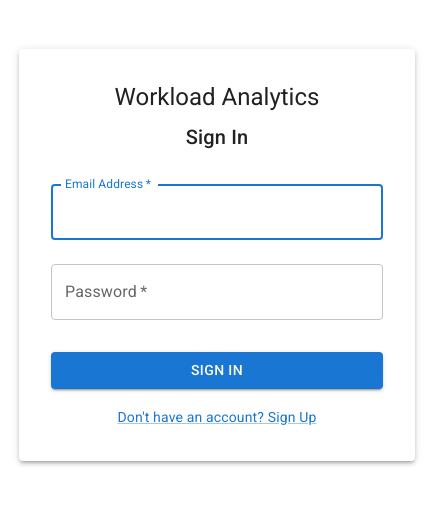
Login Component › handles login error
This screenshot has width=435, height=515.
Type "test@example.com" into the field labelled "Email Address *".
click(217, 212); type("test@example.com")  # box [51,184,383,240]
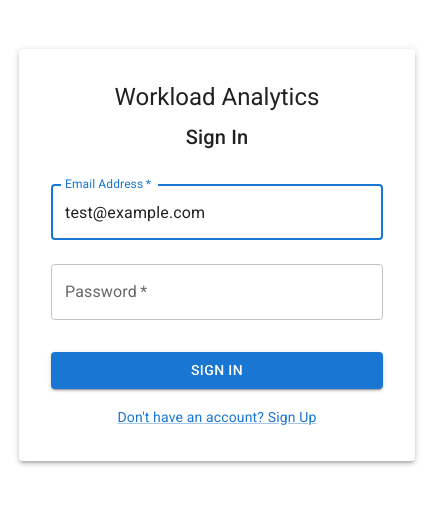
Type "wrongpassword" into the password field labelled "Password *".
click(217, 292); type("wrongpassword")  # box [51,264,383,320]
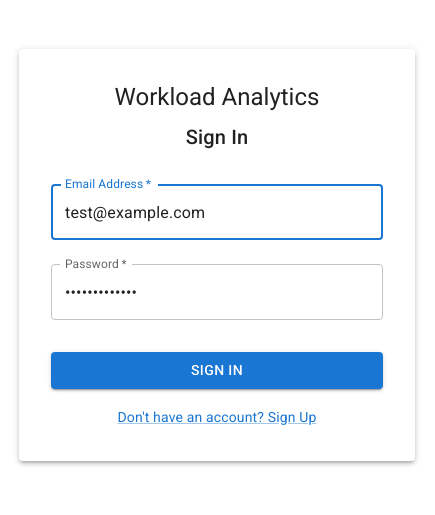
Click the button "Sign In".
click(217, 371)  # box [51,352,383,389]
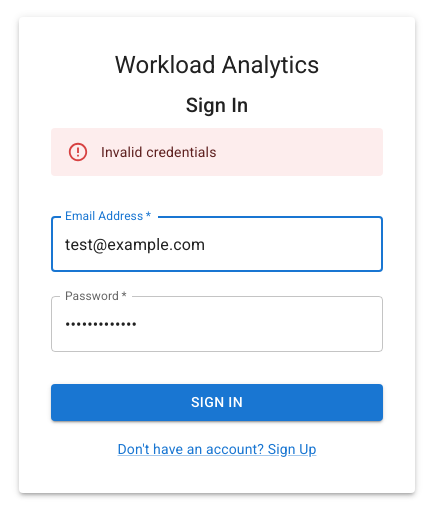
expect the text "Invalid credentials" is shown: met, box [101,144,216,160]
